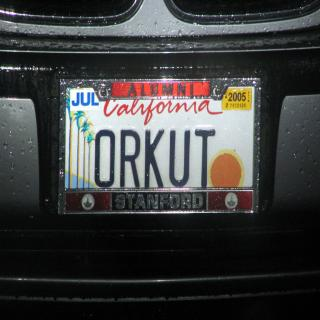license: (59, 78, 262, 215)
